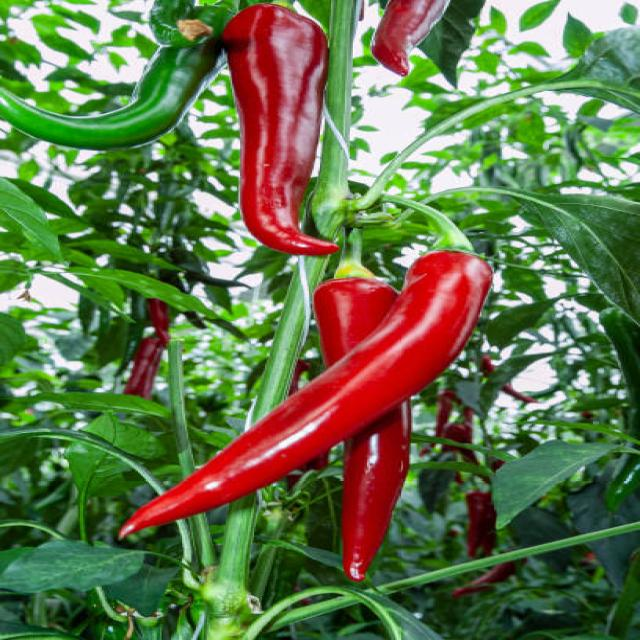Ripe: (121, 251, 491, 536), (311, 275, 416, 586), (225, 7, 348, 261), (373, 0, 449, 75)
